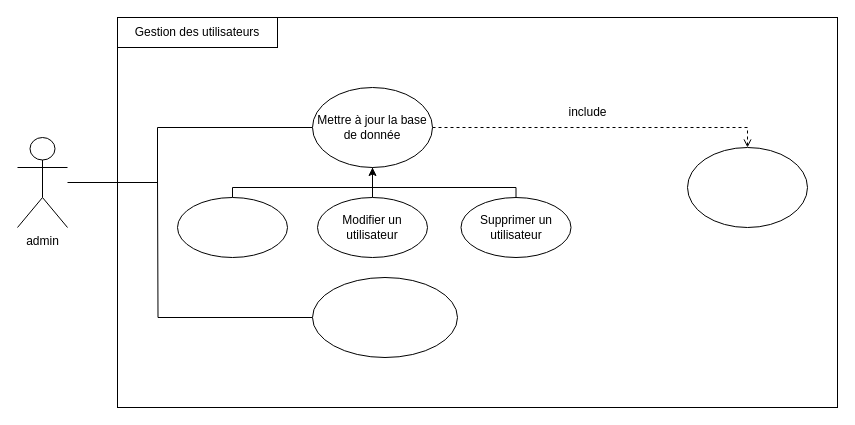
This 855x425 diagram has some shape labels left out. The shapes that lost their labels are listed below. From the top down, each one's box as (x1, y1, x2, y2) in pixels, then its label:
(686, 146, 808, 228): Authentification
(176, 196, 288, 258): Ajouter un utilisateur
(312, 276, 458, 358): Consulter la listes des utilisateurs
